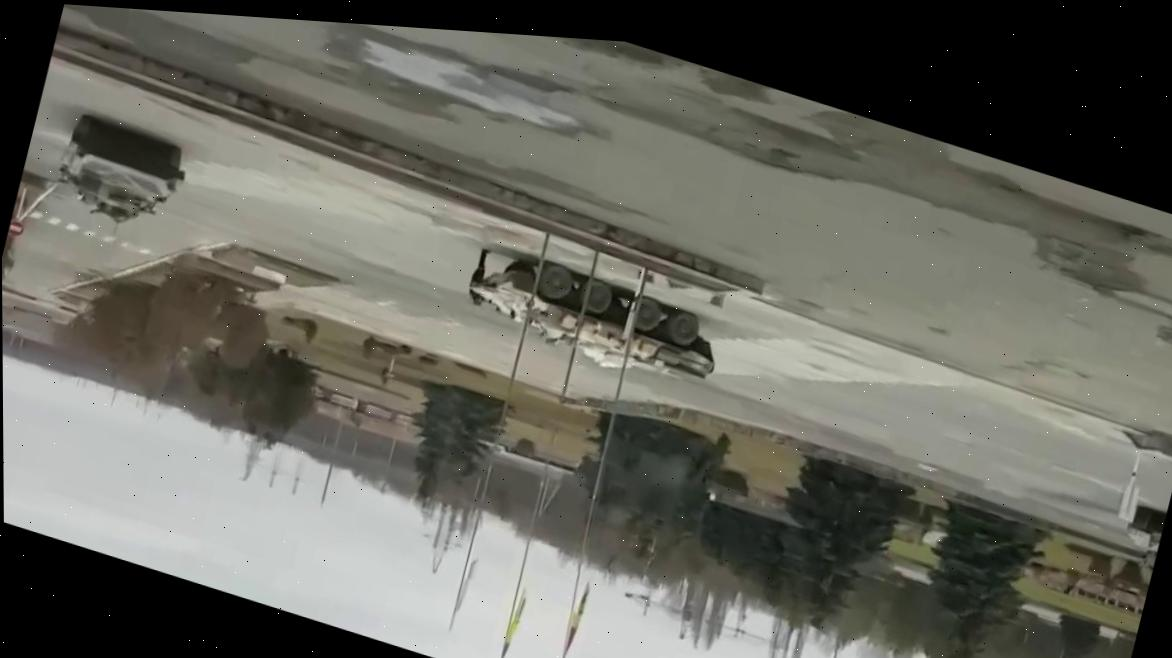person: (460, 242, 499, 314)
tank: (460, 242, 725, 401), (48, 107, 191, 239), (1107, 493, 1169, 584)
